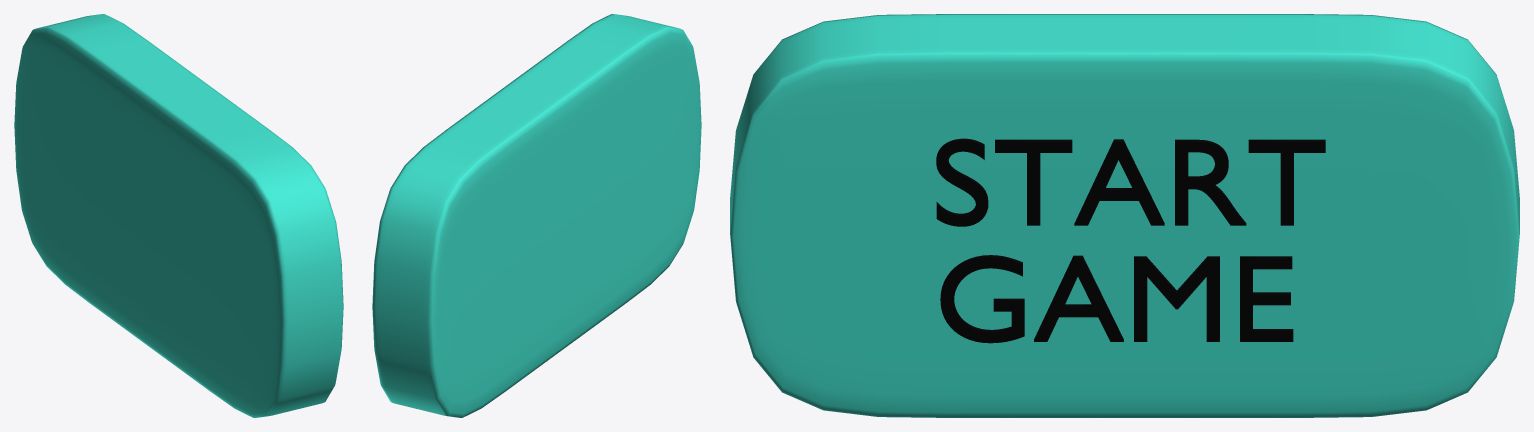
The model's file is ButtonStartGame.fbx.
3 renders of one model, left to right at view 1: azimuth 30°, elevation 25°; view 2: azimuth 150°, elevation 25°; view 3: azimuth 270°, elevation 25°, orthographic. The views are drawn at different scales.
Parts seen in each view (by area): view 1: Button; view 2: Button; view 3: Button, Game, Start.
Boxes of the visible parts, <box> form: Button: <box>14,14,343,417</box>; Button: <box>372,14,701,417</box>; Button: <box>730,14,1519,417</box>; Game: <box>940,255,1293,343</box>; Start: <box>936,138,1325,226</box>.
Bounding box in the file's own units: 56.09 × 200 × 392.
